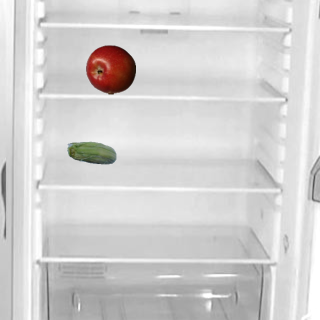Apple Braeburn: (85, 44, 135, 94)
Corn Husk: (66, 129, 116, 179)
